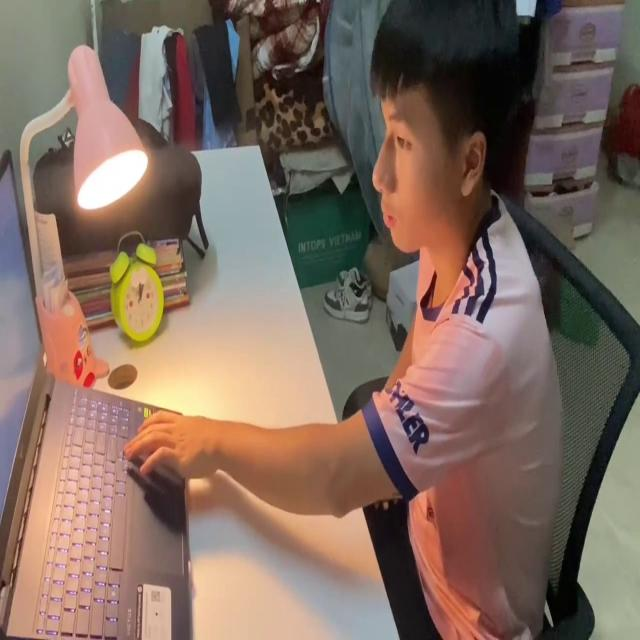laptop: (0, 144, 188, 640)
student: (116, 1, 566, 640)
